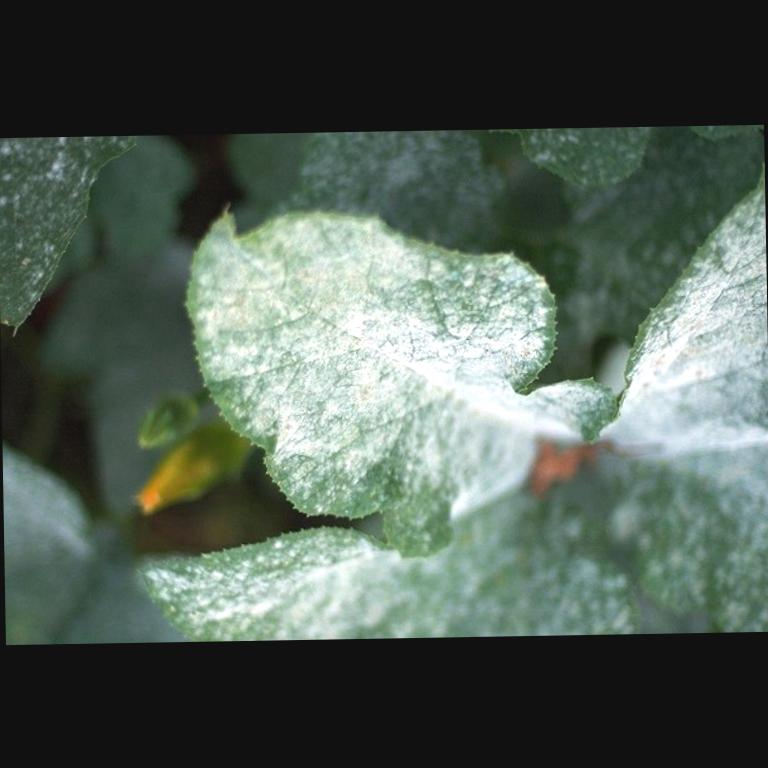powdery-mildew: (244, 256, 464, 435)
